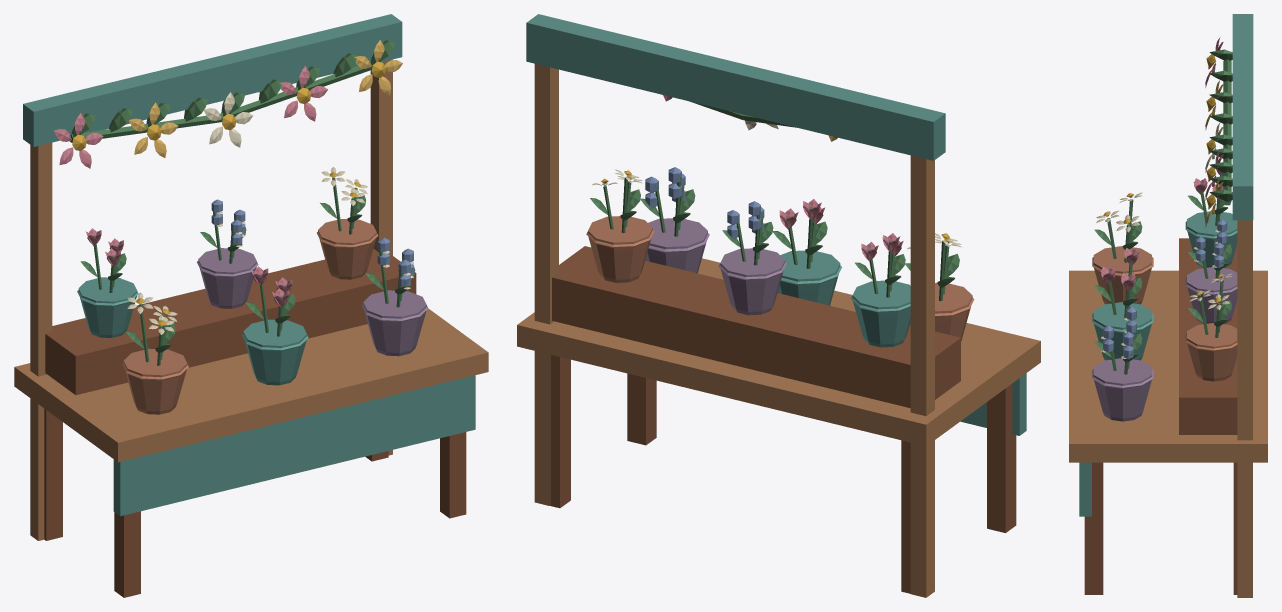
The model's file is flower_booth.glb.
3 renders of one model, left to right at view 1: azimuth 30°, elevation 25°; view 2: azimuth 150°, elevation 25°; view 3: azimuth 270°, elevation 25°, orthographic. The views are drawn at different scales.
Visible parts, largest first — view 1: geometry; view 2: geometry; view 3: geometry.
Boxes of the visible parts, x1,y1,x2,y2 form: geometry: (14,14,488,597); geometry: (517,14,1040,597); geometry: (1069,14,1267,597).
Bounding box in the file's own units: 1.98 × 2.21 × 0.96.
